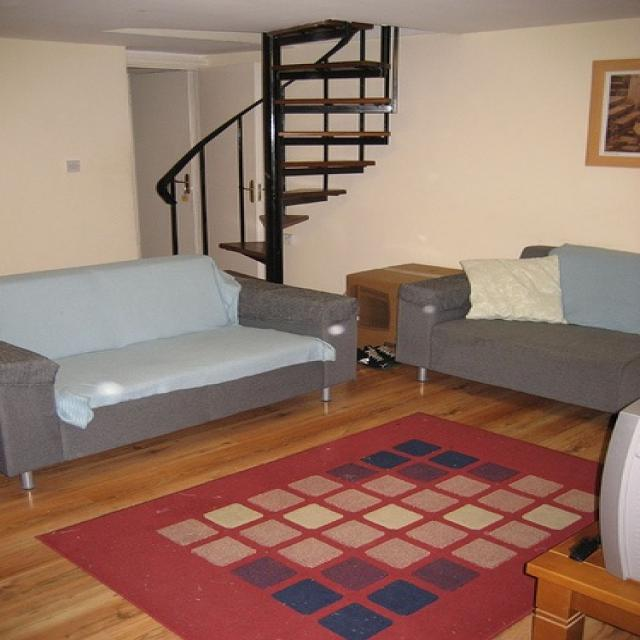sofa: (0, 253, 358, 492), (392, 245, 638, 414)
